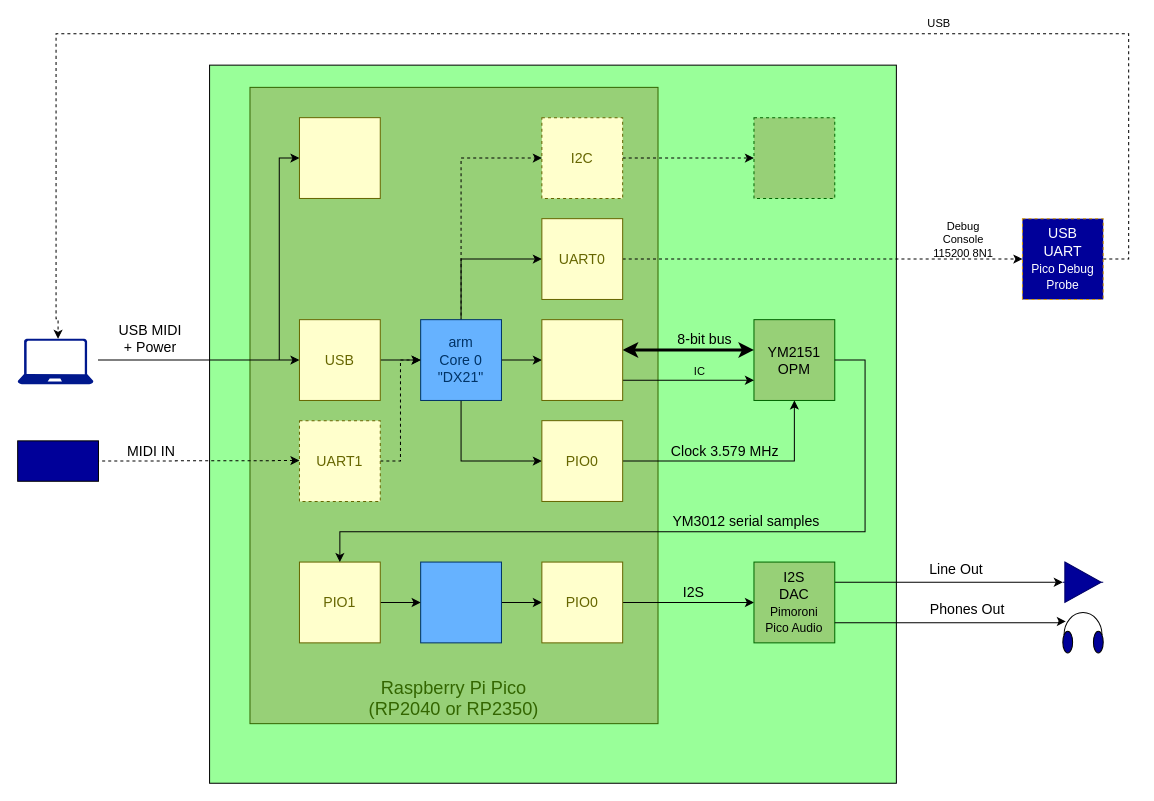
Some shapes in this 1154 by 801 pixel diagram are drawn without their labels. The shapes that lost their labels are listed below. From the top down, each one's box as (x1, y1, x2, y2) in pixels, then its label:
(298, 117, 380, 198): PWR
(753, 117, 835, 198): 16x2 LCD
(541, 319, 623, 400): GPIO
(209, 64, 896, 783): picoX21H
(17, 440, 98, 481): MIDI Controller
(420, 561, 501, 643): arm Core 1 "effects"
